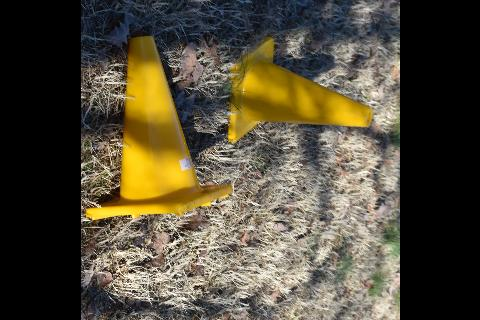cone: (84, 35, 232, 221), (227, 36, 373, 144)
